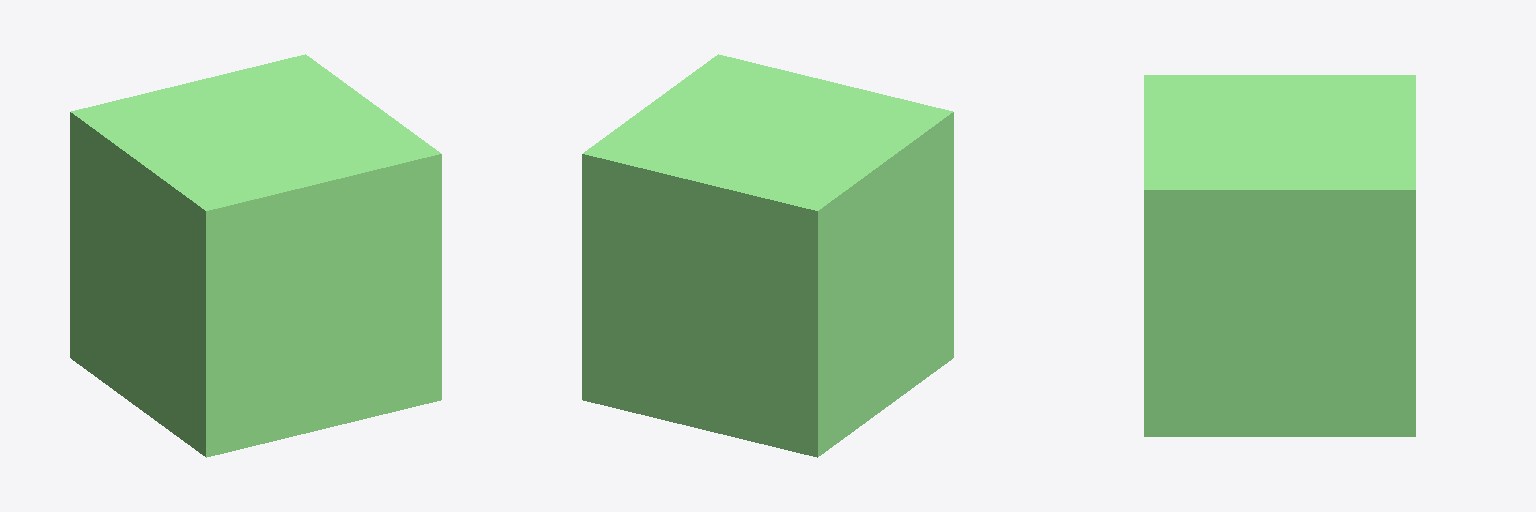
3 renders of one model, left to right at view 1: azimuth 30°, elevation 25°; view 2: azimuth 150°, elevation 25°; view 3: azimuth 270°, elevation 25°, orthographic.
Parts seen in each view (by area): view 1: Cube; view 2: Cube; view 3: Cube.
Boxes of the visible parts, box(x1,y1,x2,y2) form: Cube: box(70, 54, 441, 457); Cube: box(582, 54, 953, 457); Cube: box(1144, 75, 1415, 436).
Bounding box in the file's own units: 0.9684 × 0.9684 × 0.9684.
1 materials, 1 textured.